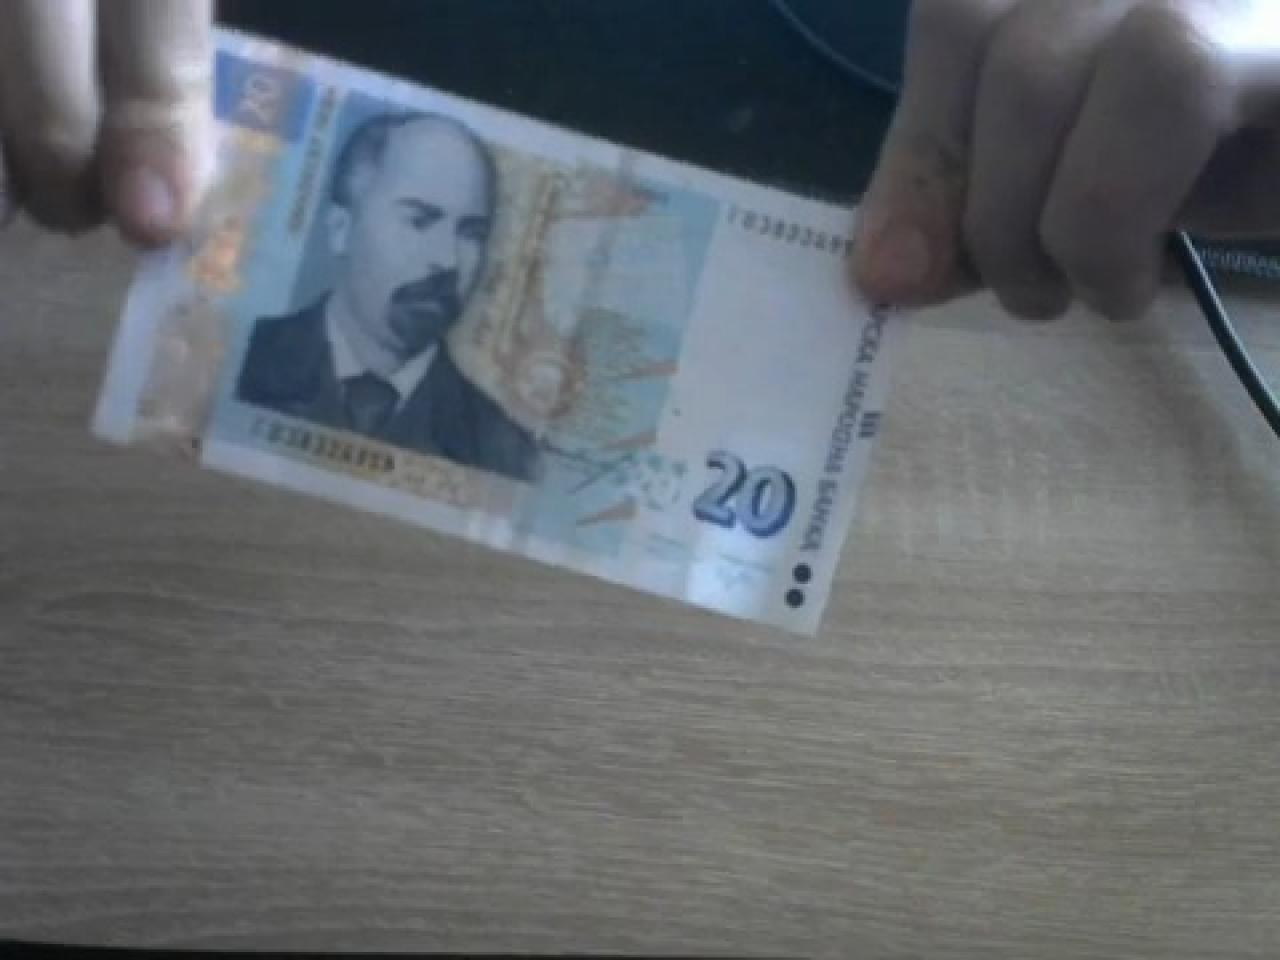20leva: (232, 104, 544, 485)
